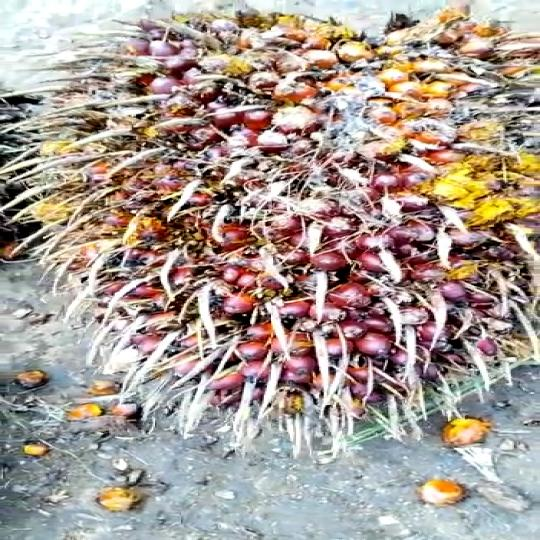masak: (16, 0, 539, 431)
